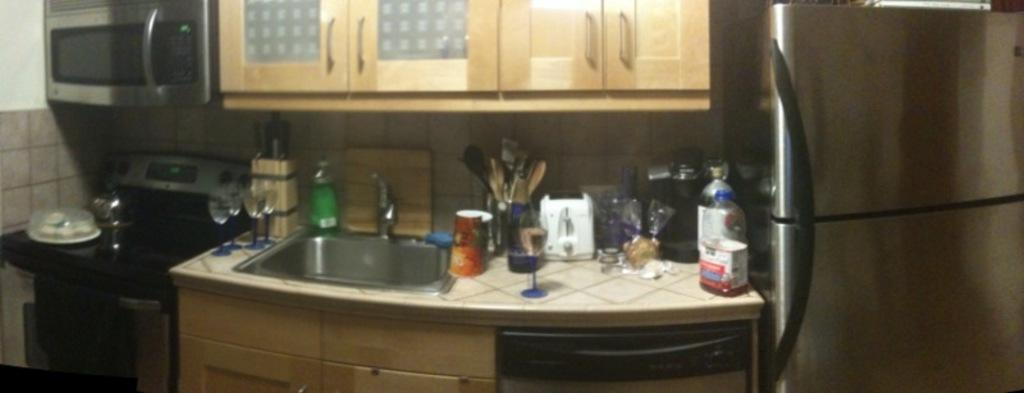cabinet_door: (344, 1, 498, 90), (210, 1, 344, 90), (500, 8, 610, 88), (606, 6, 710, 88), (178, 350, 310, 393), (334, 373, 480, 393)
handle: (763, 60, 803, 214), (768, 219, 818, 327), (140, 16, 161, 82), (610, 13, 636, 63), (348, 19, 374, 67), (576, 18, 602, 64), (316, 20, 338, 70)
